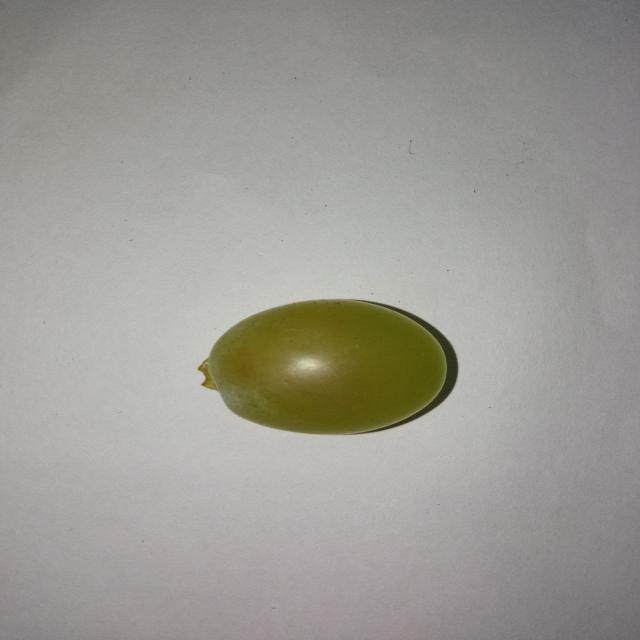fresh_grape: (197, 297, 449, 435)
